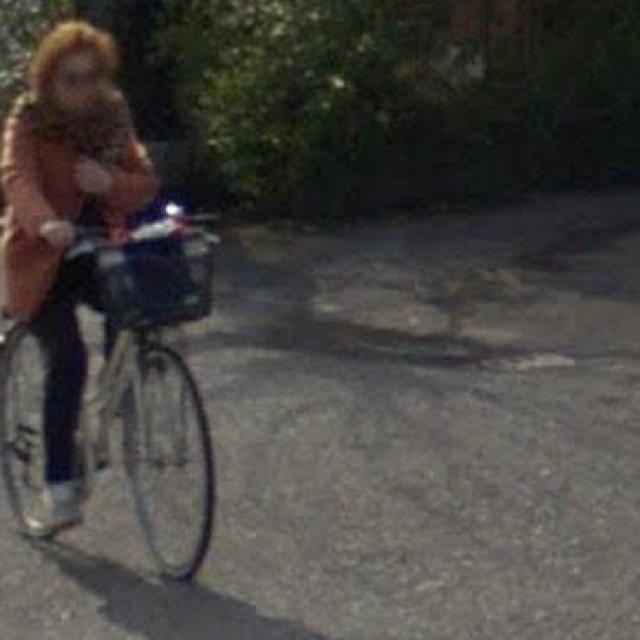bicycle: (0, 122, 305, 604)
